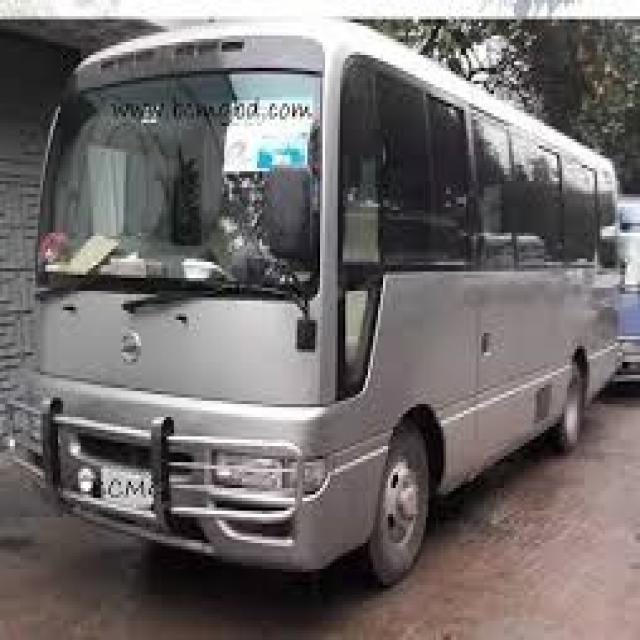bus: (12, 12, 638, 599)
